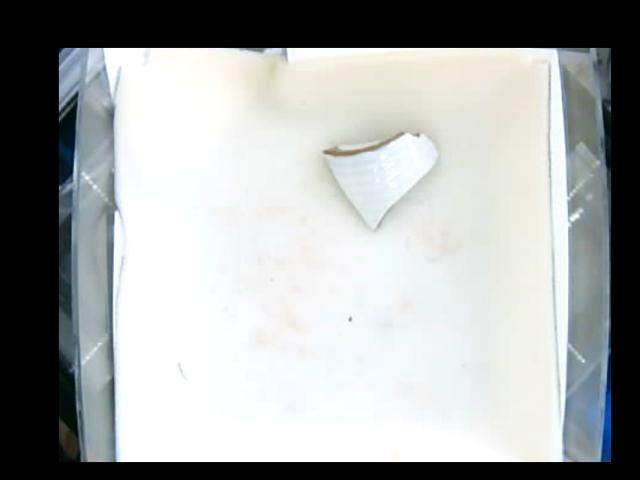China: (321, 129, 435, 229)
